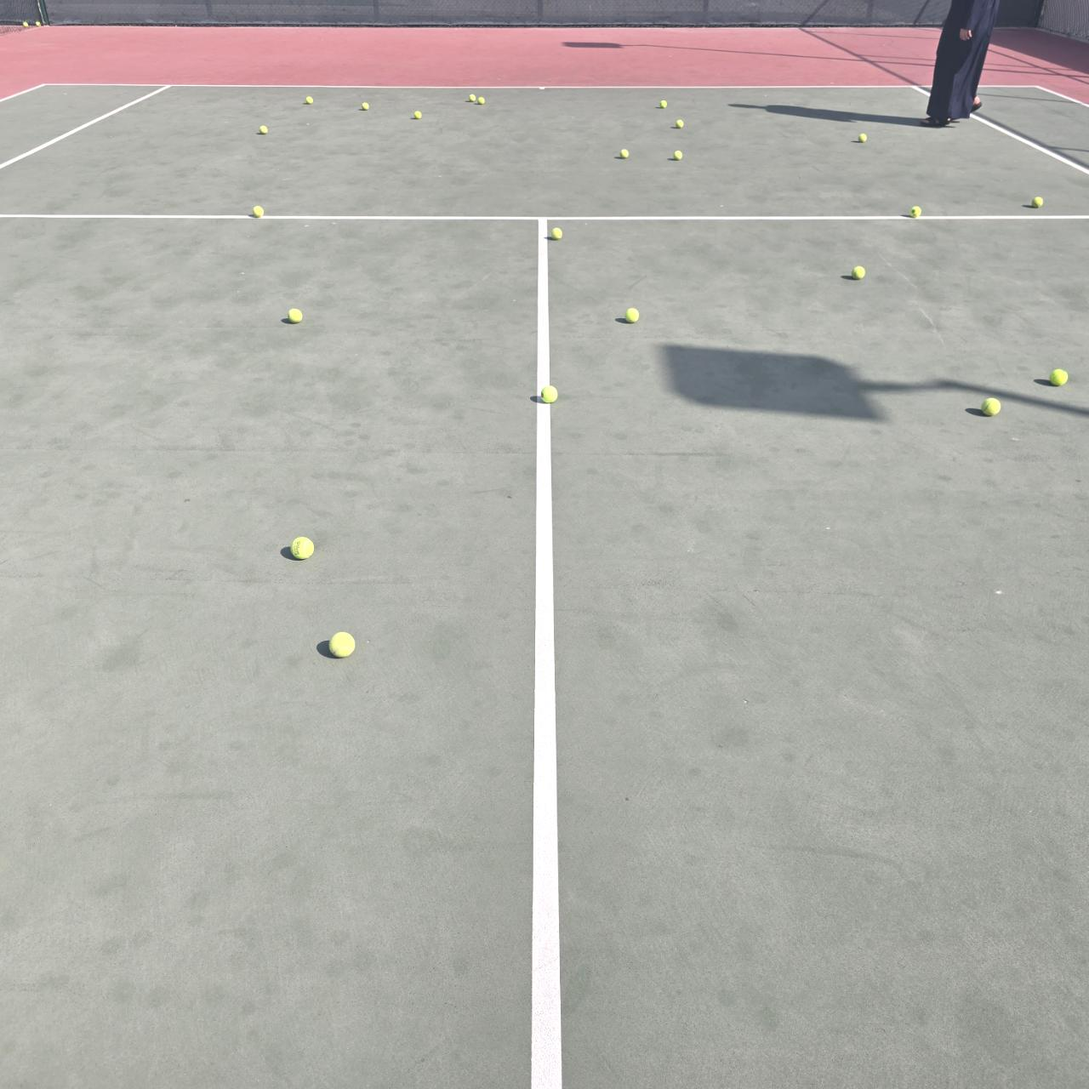tennis-ball: (327, 629, 356, 658), (289, 533, 314, 559), (980, 396, 1001, 415), (1049, 366, 1068, 385), (539, 383, 558, 402), (286, 305, 302, 322), (624, 305, 639, 322), (1031, 195, 1045, 209), (551, 227, 565, 240), (851, 267, 865, 280), (252, 206, 264, 220), (910, 205, 922, 219), (619, 148, 631, 159), (674, 118, 685, 130), (673, 149, 683, 161), (258, 126, 270, 135), (413, 110, 423, 120), (858, 133, 867, 144), (361, 102, 370, 111), (304, 96, 314, 104), (468, 94, 477, 102), (659, 100, 668, 108), (478, 96, 486, 104), (35, 20, 41, 27), (23, 21, 29, 27)
